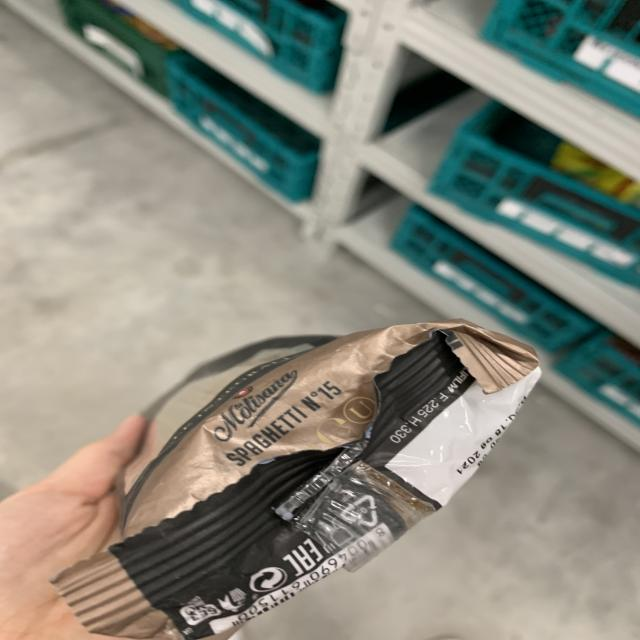object_name: (135, 346, 521, 619)
